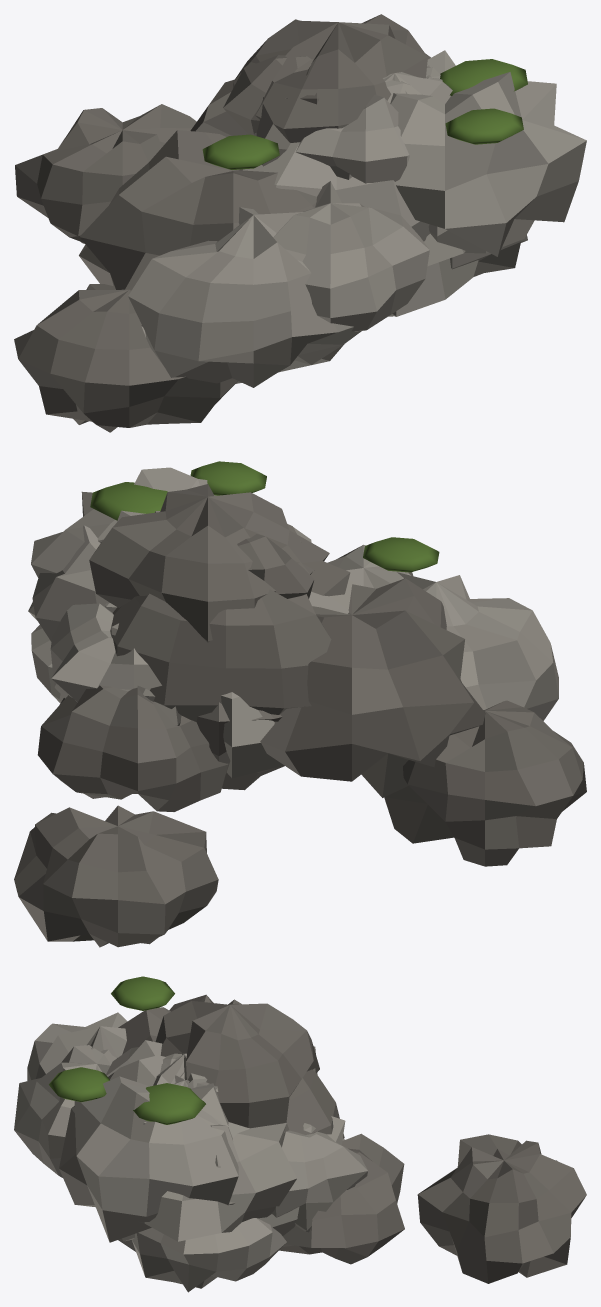
The model's file is lesesteinhaufen.glb.
3 views of the same model, one above another, from view 1: azimuth 30°, elevation 25°; view 2: azimuth 150°, elevation 25°; view 3: azimuth 270°, elevation 25° (orthographic). The views are drawn at different scales.
Visible parts, largest first — view 1: Sphere; view 2: Sphere; view 3: Sphere.
Part boxes in pixels (x1,y1,x2,y2): Sphere: [14, 14, 586, 432]; Sphere: [14, 461, 586, 947]; Sphere: [14, 976, 586, 1292].
Bounding box in the file's own units: 1.1 × 0.6185 × 1.12.
